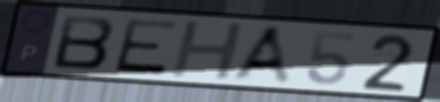2: (361, 31, 418, 95)
5: (304, 29, 358, 86)
A: (228, 24, 296, 87)
B: (51, 13, 118, 71)
E: (111, 17, 182, 77)
H: (167, 20, 248, 81)
